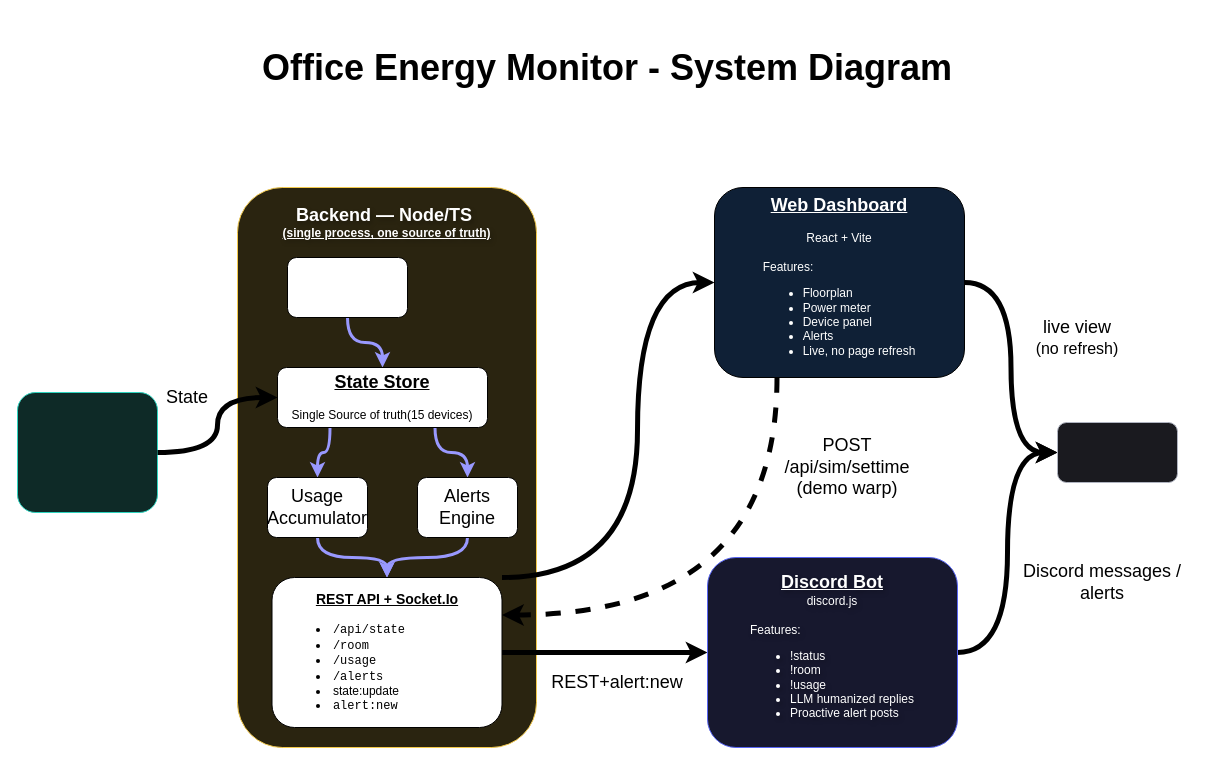
This 1205x765 diagram has some shape labels left out. Here are the shapes that lost their labels. From the top down, the centre of each, then its label:
the point at 347,287: Simulation Engine
the point at 87,452: Simulated Device Layer 15 devices · ESP32 concept (Wokwi)
the point at 1117,452: Boss & Team
